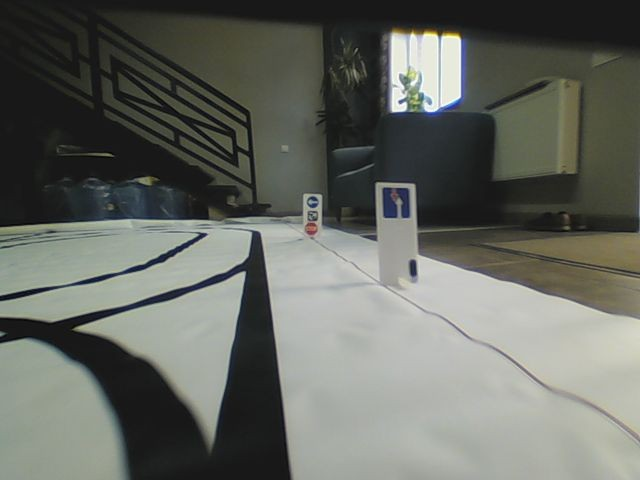priority_movement: (381, 185, 412, 221)
